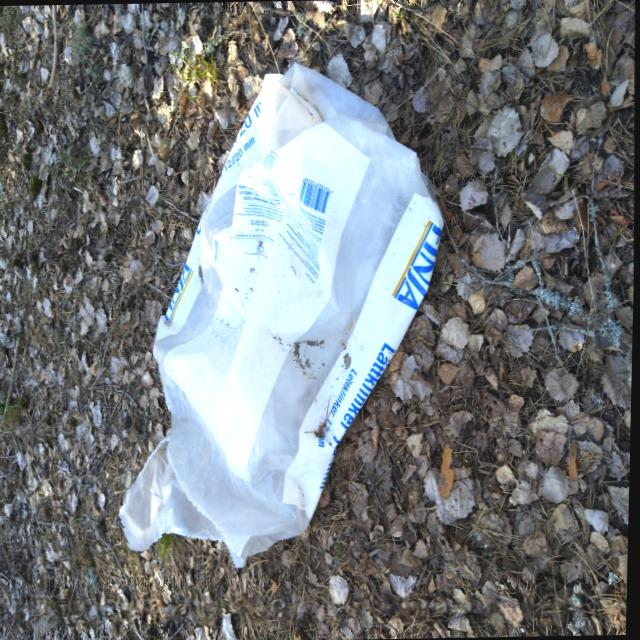Paper: (95, 39, 465, 580)
